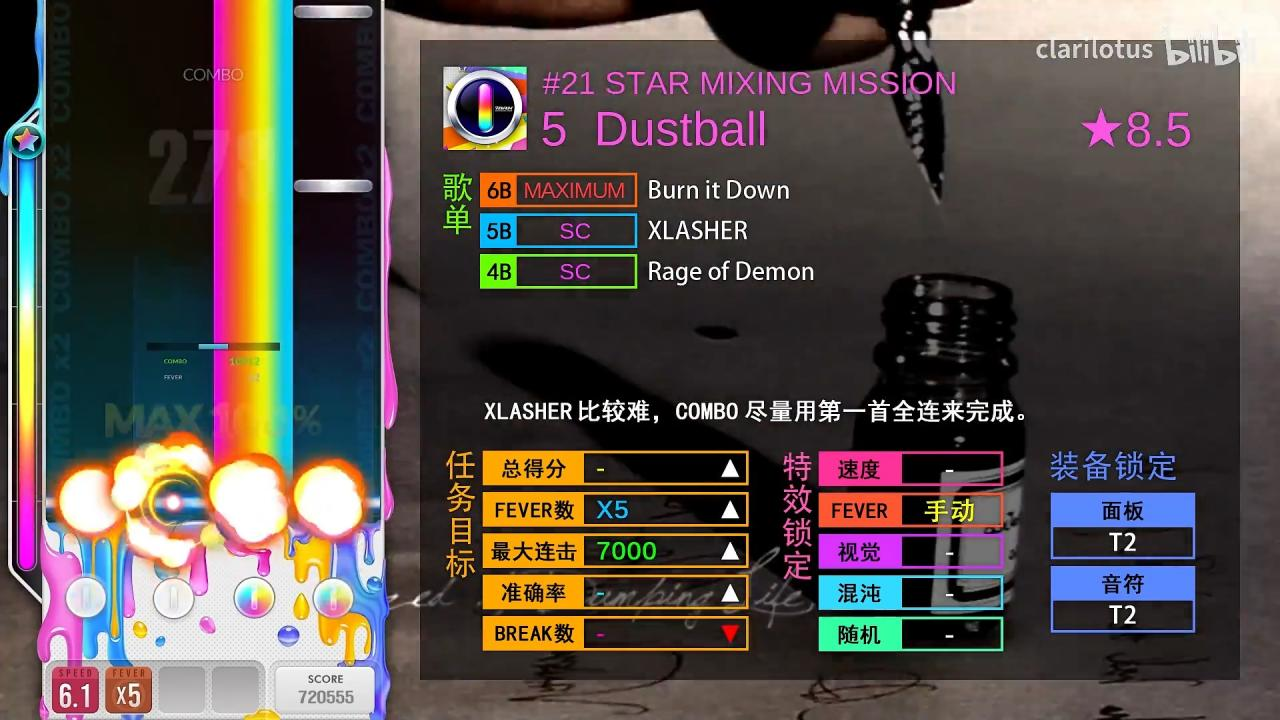note: (294, 4, 372, 18), (294, 179, 372, 193)
